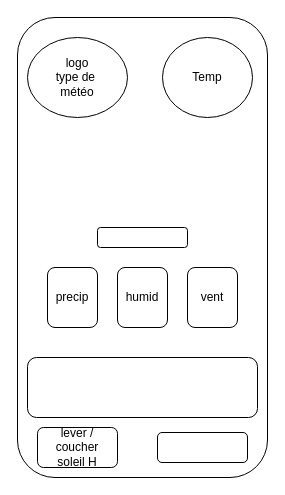
Image size: 285x495. Some labels were removed from this diagram. The centre of each missing label's shape, as x and y in pixels:
Aujourd'hui / Jours de la semaine a venir: the point at 142,387
Heure: the point at 202,447
Ville: the point at 142,237
